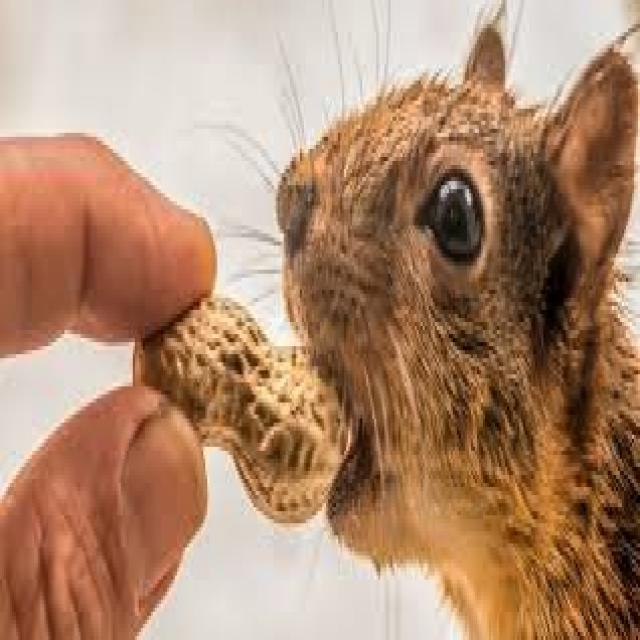squirrel: (276, 24, 638, 636)
